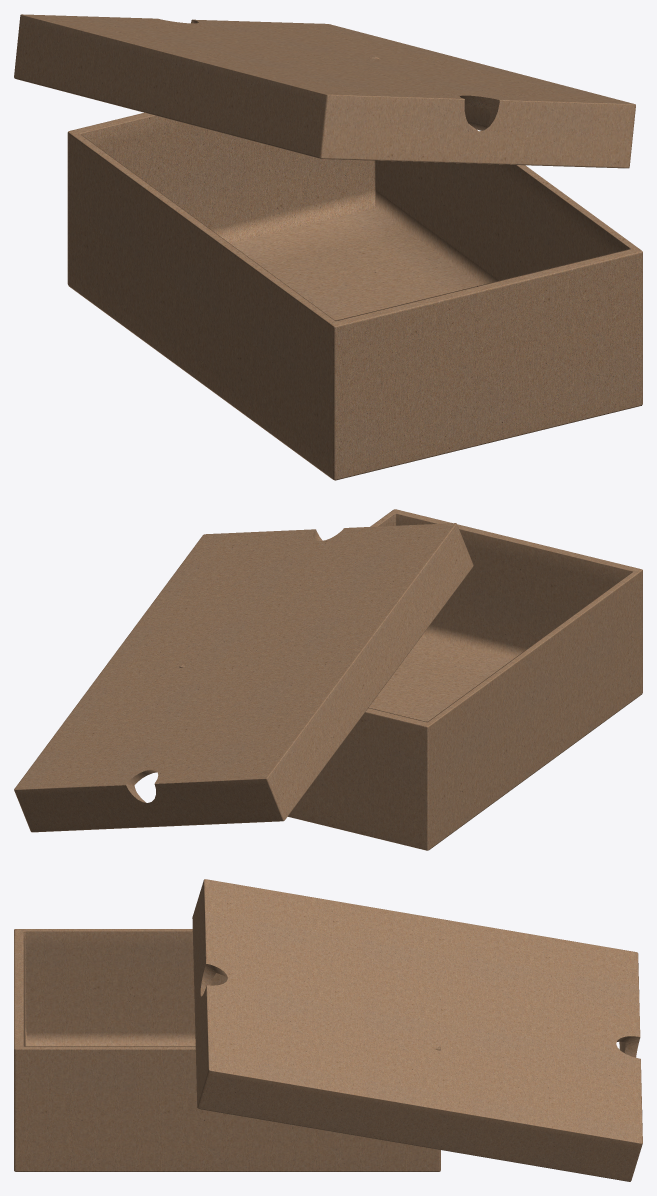
Rendered from ShoeBox1.fbx.
3 renders of one model, top to bottom at view 1: azimuth 30°, elevation 25°; view 2: azimuth 150°, elevation 25°; view 3: azimuth 270°, elevation 25°, orthographic. The views are drawn at different scales.
Visible parts, largest first — view 1: pCube10, pCube14; view 2: pCube14, pCube10; view 3: pCube14, pCube10.
Part boxes in pixels (x1,y1,x2,y2): pCube10: [67, 56, 642, 480]; pCube14: [14, 14, 635, 168]; pCube14: [14, 523, 473, 832]; pCube10: [179, 509, 642, 850]; pCube14: [192, 879, 642, 1181]; pCube10: [14, 929, 440, 1171].
Size of the model in its own units: 5.48 by 3.35 by 8.82.
Materials: 1 (1 with a texture image).
